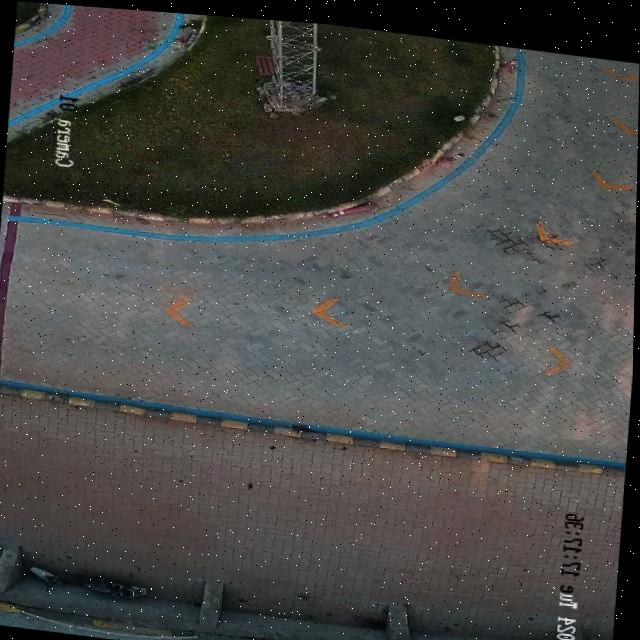No Car: (0, 1, 640, 640)
